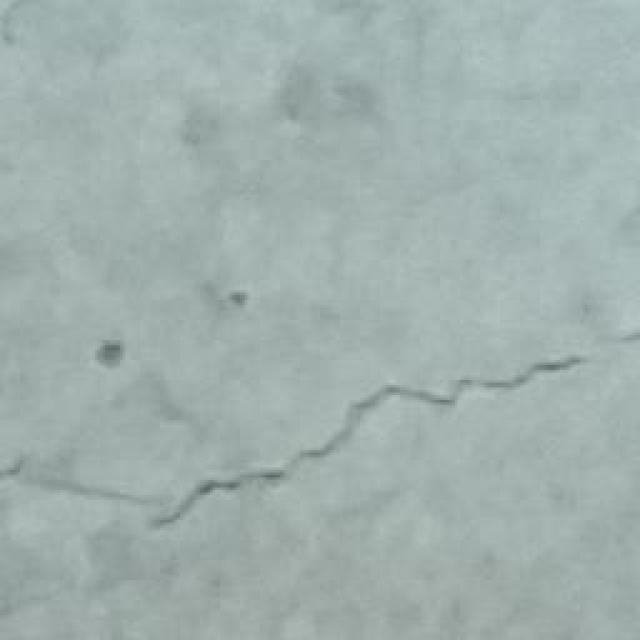Transverse: (0, 328, 640, 528)
